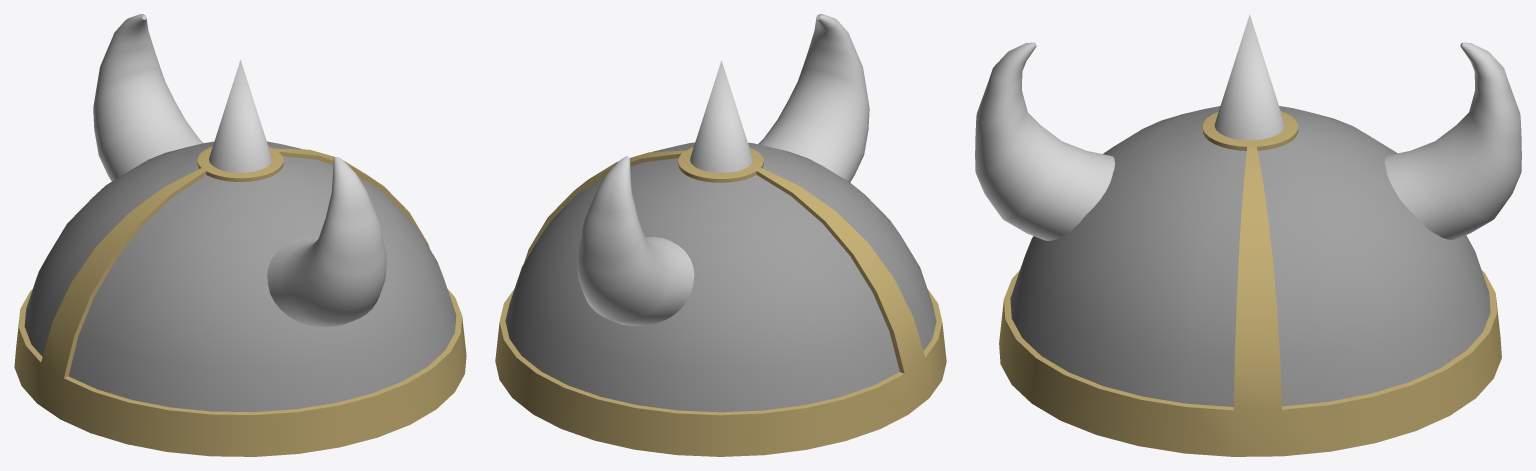
Rendered from Viking Hat.fbx.
3 renders of one model, left to right at view 1: azimuth 30°, elevation 25°; view 2: azimuth 150°, elevation 25°; view 3: azimuth 270°, elevation 25°, orthographic. The views are drawn at different scales.
Visible parts, largest first — view 1: Viking Hat; view 2: Viking Hat; view 3: Viking Hat.
Boxes of the visible parts, x1,y1,x2,y2 form: Viking Hat: (14,14,466,456); Viking Hat: (495,14,946,456); Viking Hat: (975,14,1521,456).
Size of the model in its own units: 131 by 96.85 by 143.
